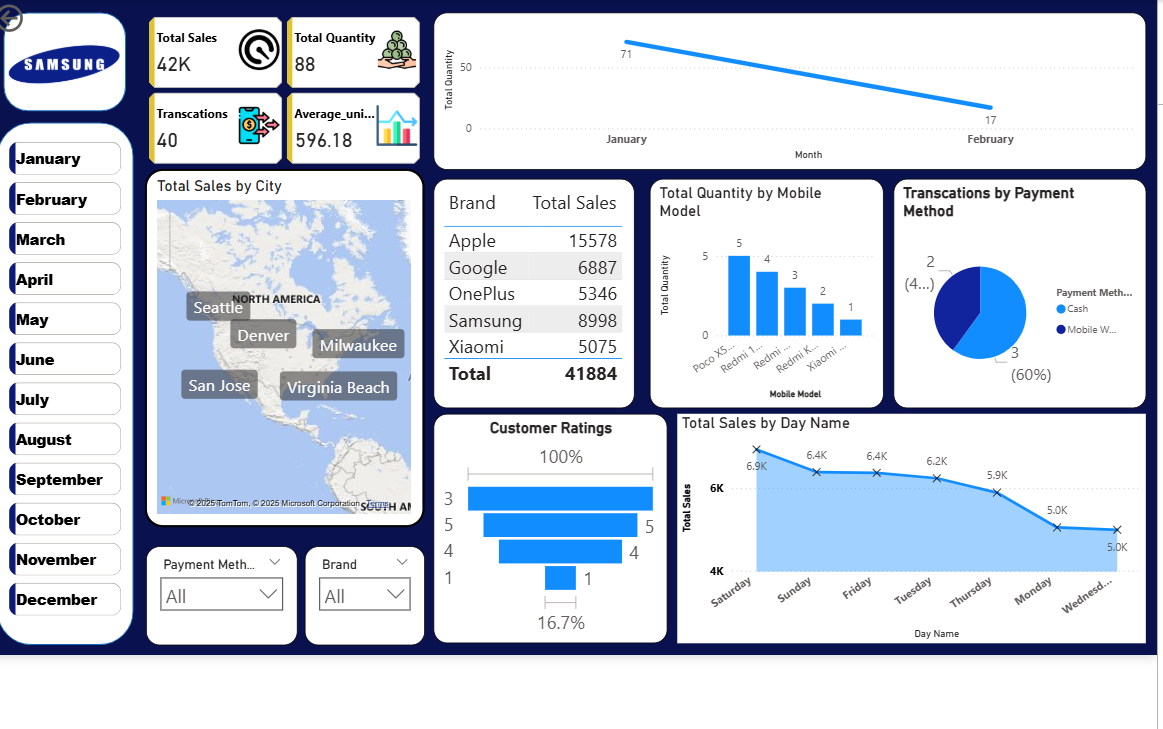

What the dashboard file says about the page in this screenshot:
{"tool":"powerbi","page":{"name":"Page 1","canvas":[1280,720],"ordinal":0},"visuals":[{"type":"shape","box":[13.7,13.7,134.5,108.4],"z":0},{"type":"image","box":[5.5,0,149.6,149.6],"z":1000},{"type":"shape","box":[6.9,134.5,149.6,573.6],"z":2000},{"type":"advancedSlicerVisual","fields":{"Values":["Project_Data (2).Date(New).Variation.Date Hierarchy.Month"]},"box":[15.1,150.9,133.1,540.7],"z":3000},{"type":"actionButton","box":[0,0,100,40],"z":4000},{"type":"cardVisual","fields":{"Data":["Project_Data (2).Total Sales","Project_Data (2).Total Quantity","Project_Data (2).Transcations","Project_Data (2).Average_unit_price"]},"box":[168.8,13.7,307.4,171.5],"z":5000},{"type":"map","fields":{"Category":["Project_Data (2).City"],"Size":["Project_Data (2).Total Sales"]},"box":[168.8,185.2,307.4,393.8],"z":5001},{"type":"slicer","fields":{"Values":["Project_Data (2).Payment Method"]},"box":[170,599.7,166,108.4],"z":5002},{"type":"slicer","fields":{"Values":["Project_Data (2).Brand"]},"box":[344.4,599.7,131.7,108.4],"z":5003},{"type":"lineChart","fields":{"Y":["Project_Data (2).Total Quantity"],"Category":["Project_Data (2).Date(New).Variation.Date Hierarchy.Month"]},"box":[485.8,13.7,782.2,172.9],"z":5004},{"type":"tableEx","fields":{"Values":["Project_Data (2).Brand","Project_Data (2).Total Sales"]},"box":[486.1,196.7,220.9,252.3],"z":5005},{"type":"clusteredColumnChart","fields":{"Y":["Project_Data (2).Total Quantity"],"Category":["Project_Data (2).Mobile Model"]},"box":[722.7,196.7,256.6,252.3],"z":5006},{"type":"pieChart","fields":{"Category":["Project_Data (2).Payment Method"],"Y":["Project_Data (2).Transcations"]},"box":[990.6,196.7,278,252.3],"z":5008},{"type":"funnel","title":" Customer Ratings ","fields":{"Category":["Project_Data (2).Customer Ratings (1-5)"],"Y":["Sum(Project_Data (2).Customer Ratings (1-5))"]},"box":[486.1,454.7,256.6,252.3],"z":5009},{"type":"areaChart","fields":{"Category":["Project_Data (2).Day Name"],"Y":["Project_Data (2).Total Sales"]},"box":[754,454.7,514.6,252.3],"z":5010}]}

Visuals, with their boxes in screenshot pixels (x1, y1, x2, y2):
shape: x1=9, y1=15, x2=130, y2=112
image: x1=2, y1=3, x2=136, y2=137
shape: x1=3, y1=124, x2=137, y2=638
advancedSlicerVisual - Project_Data (2).Date(New).Variation.Date Hierarchy.Month: x1=11, y1=138, x2=130, y2=623
actionButton: x1=0, y1=3, x2=87, y2=39
cardVisual - Project_Data (2).Total Sales x Project_Data (2).Total Quantity: x1=148, y1=15, x2=424, y2=169
map - Project_Data (2).City x Project_Data (2).Total Sales: x1=148, y1=169, x2=424, y2=522
slicer - Project_Data (2).Payment Method: x1=149, y1=540, x2=298, y2=638
slicer - Project_Data (2).Brand: x1=306, y1=540, x2=424, y2=638
lineChart - Project_Data (2).Total Quantity x Project_Data (2).Date(New).Variation.Date Hierarchy.Month: x1=432, y1=15, x2=1133, y2=170
tableEx - Project_Data (2).Brand x Project_Data (2).Total Sales: x1=433, y1=179, x2=630, y2=405
clusteredColumnChart - Project_Data (2).Total Quantity x Project_Data (2).Mobile Model: x1=645, y1=179, x2=874, y2=405
pieChart - Project_Data (2).Payment Method x Project_Data (2).Transcations: x1=885, y1=179, x2=1134, y2=405
" Customer Ratings " funnel: x1=433, y1=410, x2=662, y2=637
areaChart - Project_Data (2).Day Name x Project_Data (2).Total Sales: x1=673, y1=410, x2=1134, y2=637
